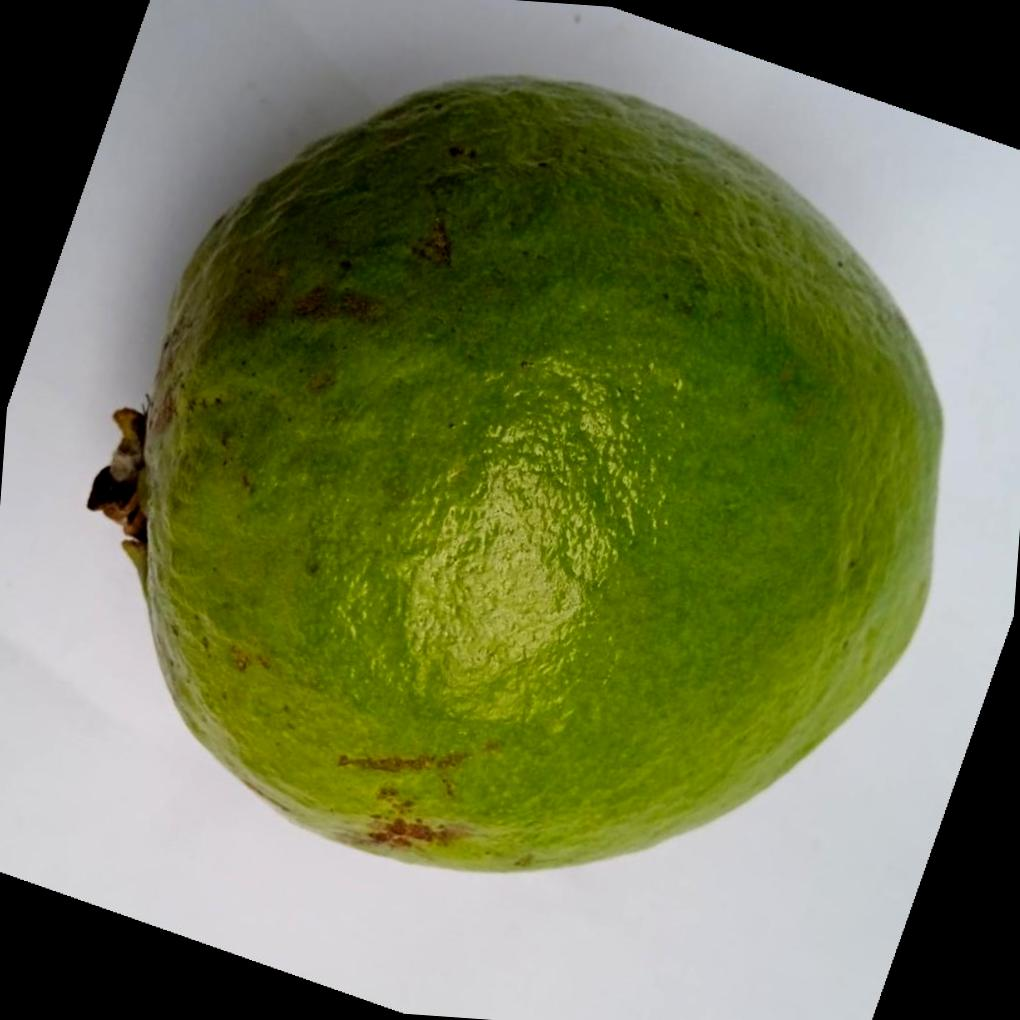FreshGuava: (88, 70, 946, 873)
